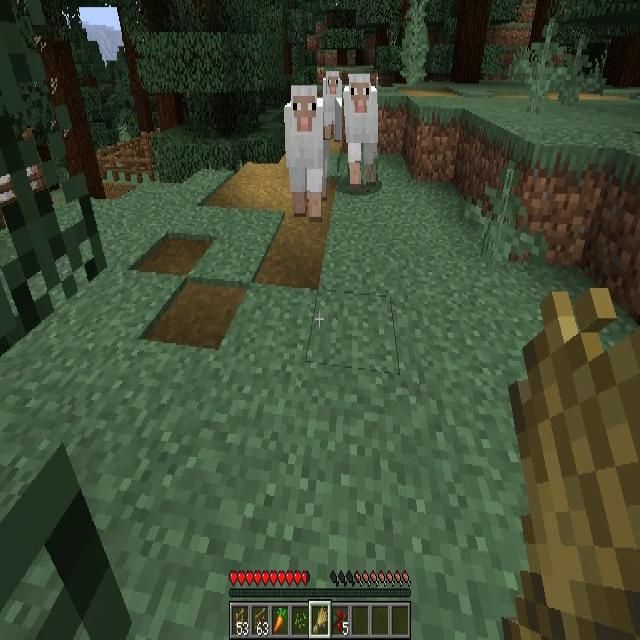sheep: (284, 86, 328, 220), (342, 74, 378, 190), (323, 69, 342, 140)
